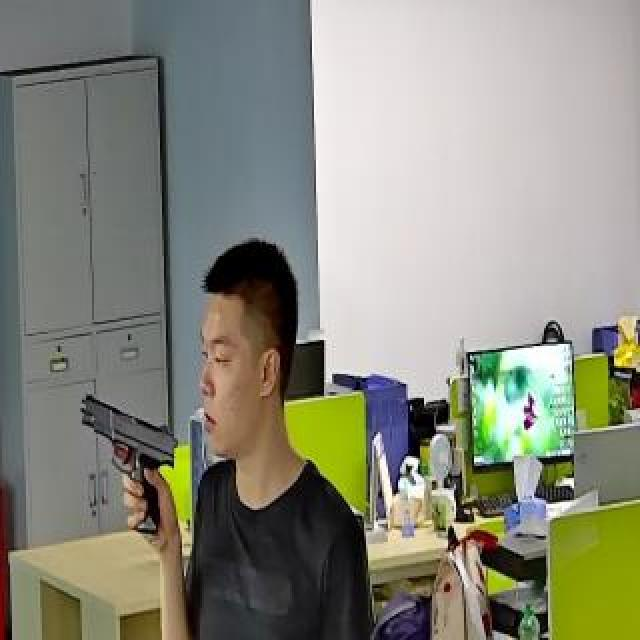Guns: (65, 377, 198, 557)
